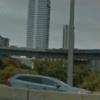Car: (4, 66, 90, 92)
